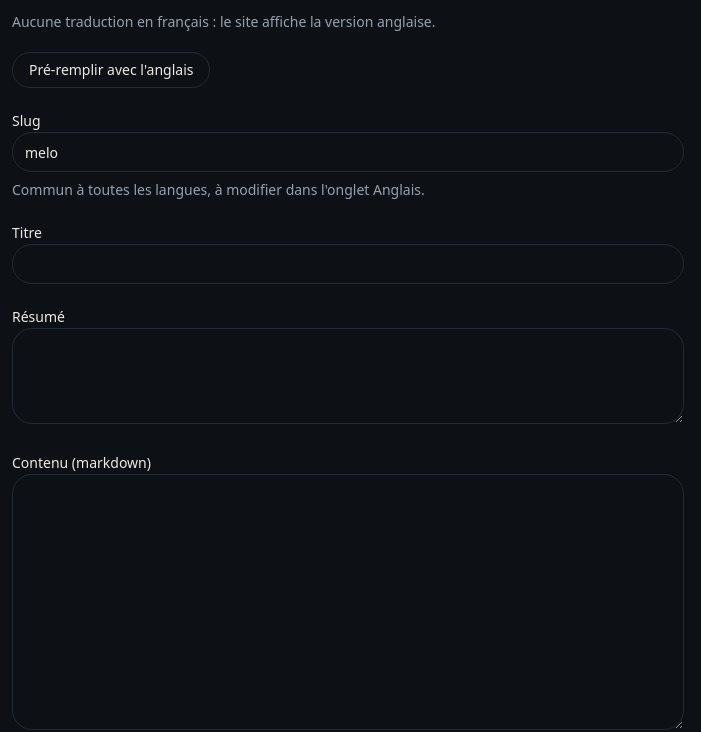
ProjectTranslationForm › pre-fills the fields from the English text on request
Click the button "Pré-remplir avec l'anglais": (111,70) [12, 52, 210, 88]
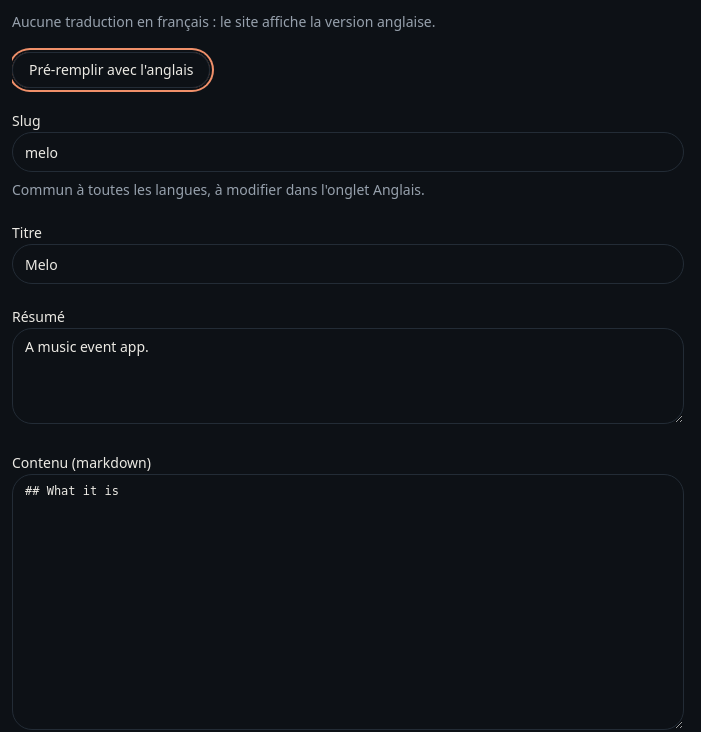
Check: the field labelled "Titre" holds "Melo", box [12, 244, 684, 284]
Check: the text box labelled "Résumé" holds "A music event app.", box [12, 328, 684, 424]
